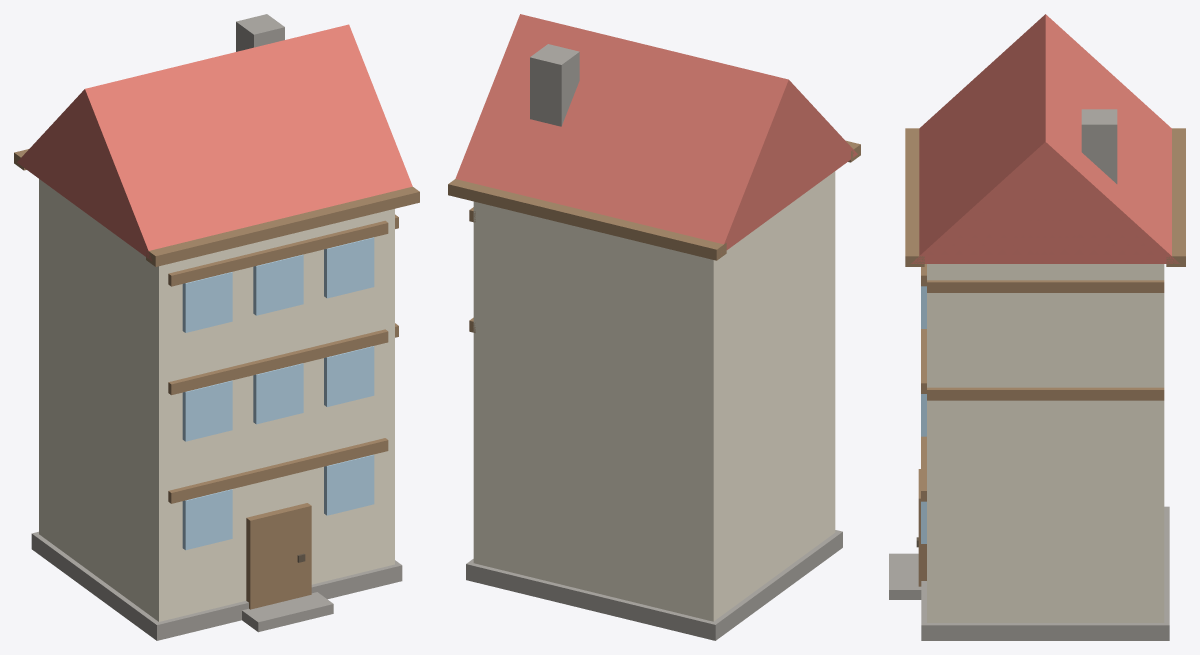
Rendered from house_lv3.glb.
The picture shows the model from 3 angles, left to right: view 1: azimuth 30°, elevation 25°; view 2: azimuth 150°, elevation 25°; view 3: azimuth 270°, elevation 25°; orthographic projection. The views are drawn at different scales.
Parts seen in each view (by area): view 1: house_lv3; view 2: house_lv3; view 3: house_lv3.
Part boxes in pixels (left/top/right/bottom): house_lv3: left=14, top=14, right=419, bottom=640; house_lv3: left=448, top=14, right=860, bottom=640; house_lv3: left=889, top=14, right=1185, bottom=640.
Size of the model in its own units: 5.6 by 10.3 by 5.5.
